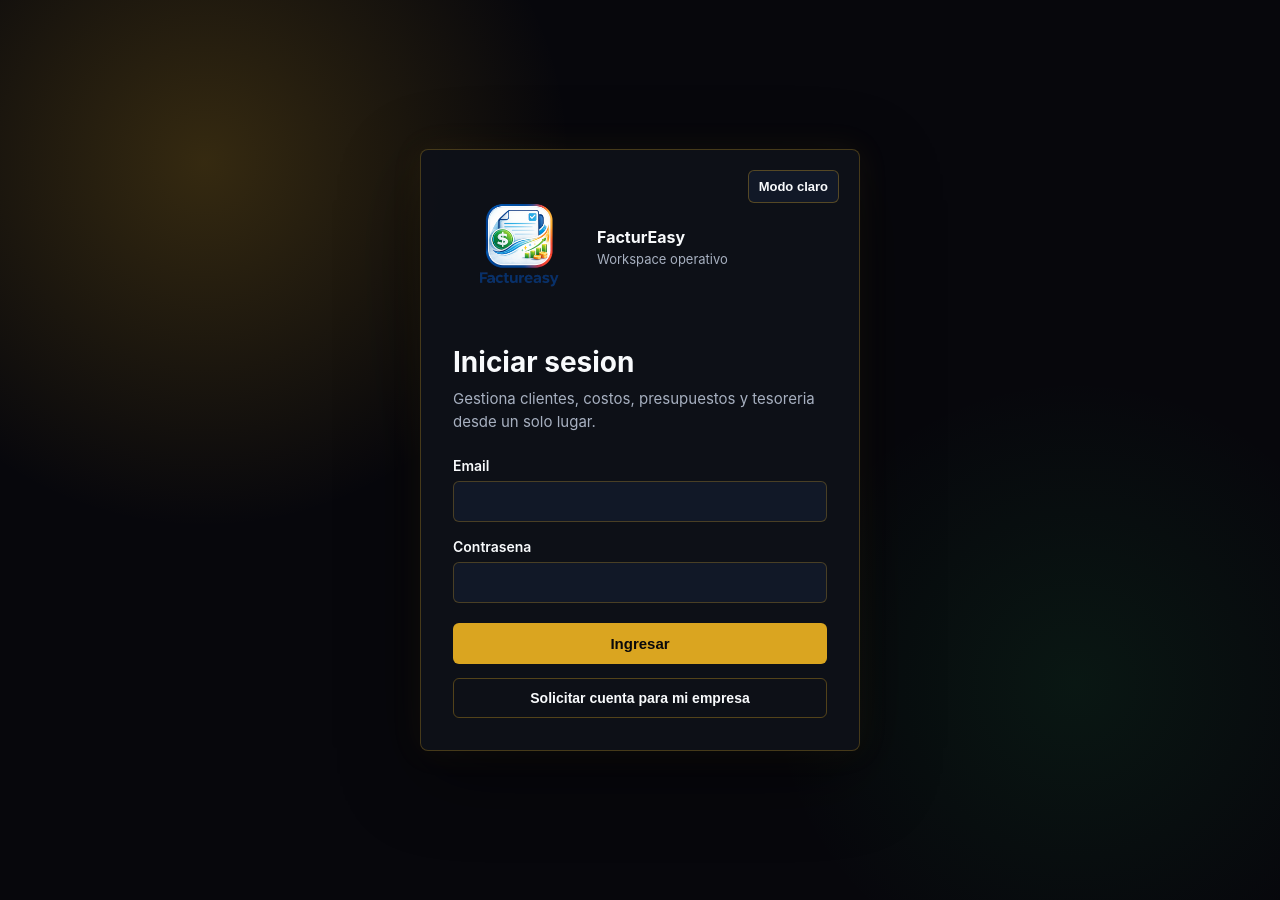
it: LoginPage › lets the user switch theme before login
Click the button "Modo claro" at (793, 186), box [748, 170, 839, 203]
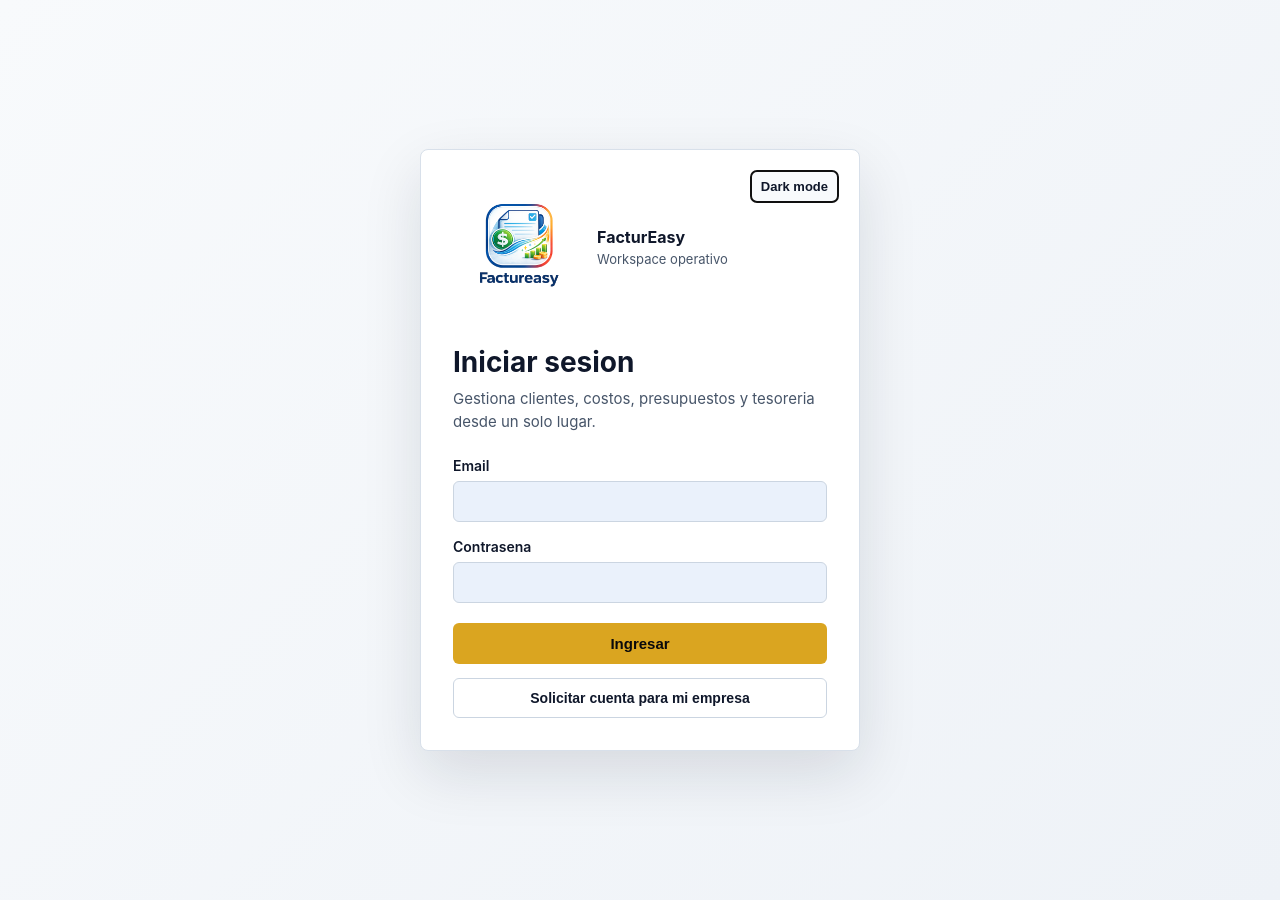
Check: the button "Dark mode" is shown, box [750, 170, 839, 203]
